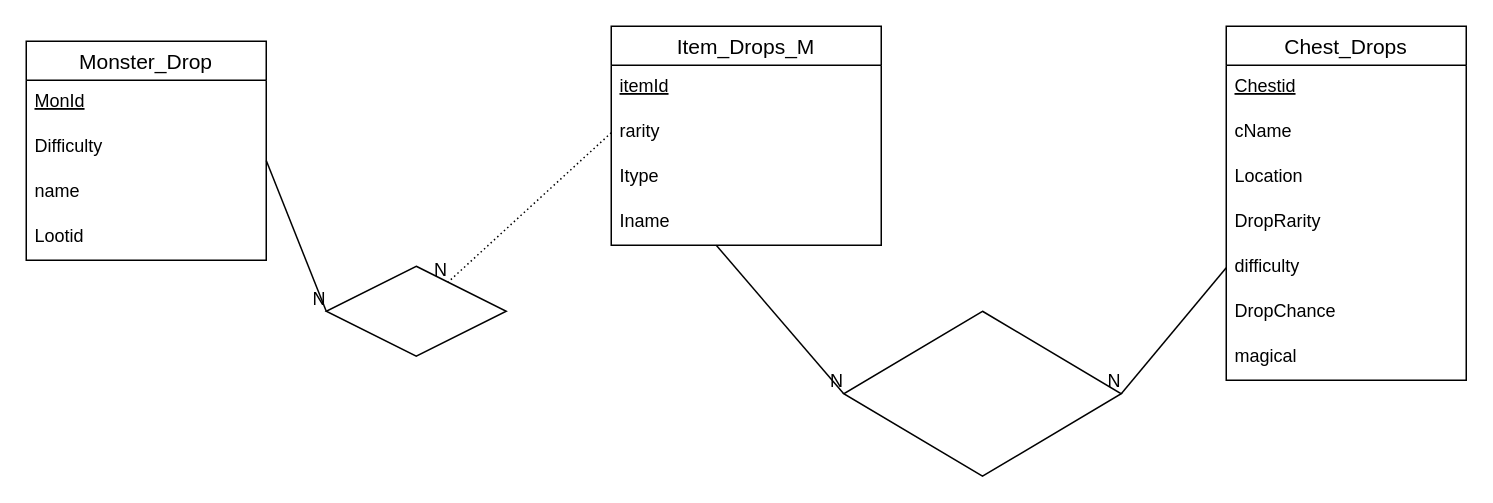
The diagram is 1493 pixels wide and 503 high, and some of its shapes have lost their labels. Here are the shapes that lost their labels. From the top down, the centre of each, then its label:
the point at 415,310: Can Drop Items
the point at 981,393: Found From opening Chest
